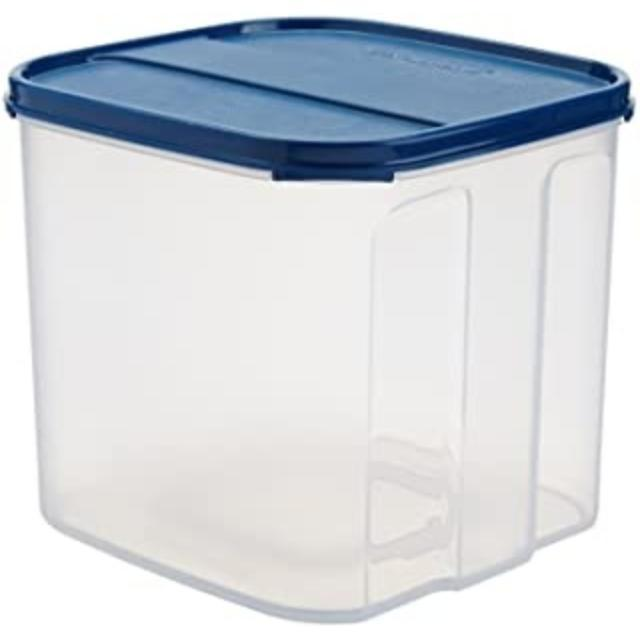plastic: (5, 18, 633, 621)
